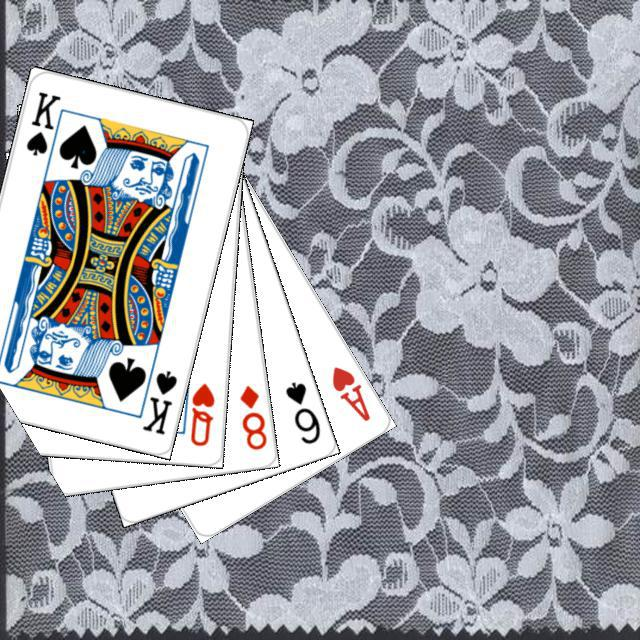6s: (280, 377, 322, 446)
8d: (235, 380, 268, 452)
Ah: (326, 361, 372, 423)
Ks: (21, 87, 65, 166), (137, 365, 179, 437)
Qh: (186, 378, 217, 448)
